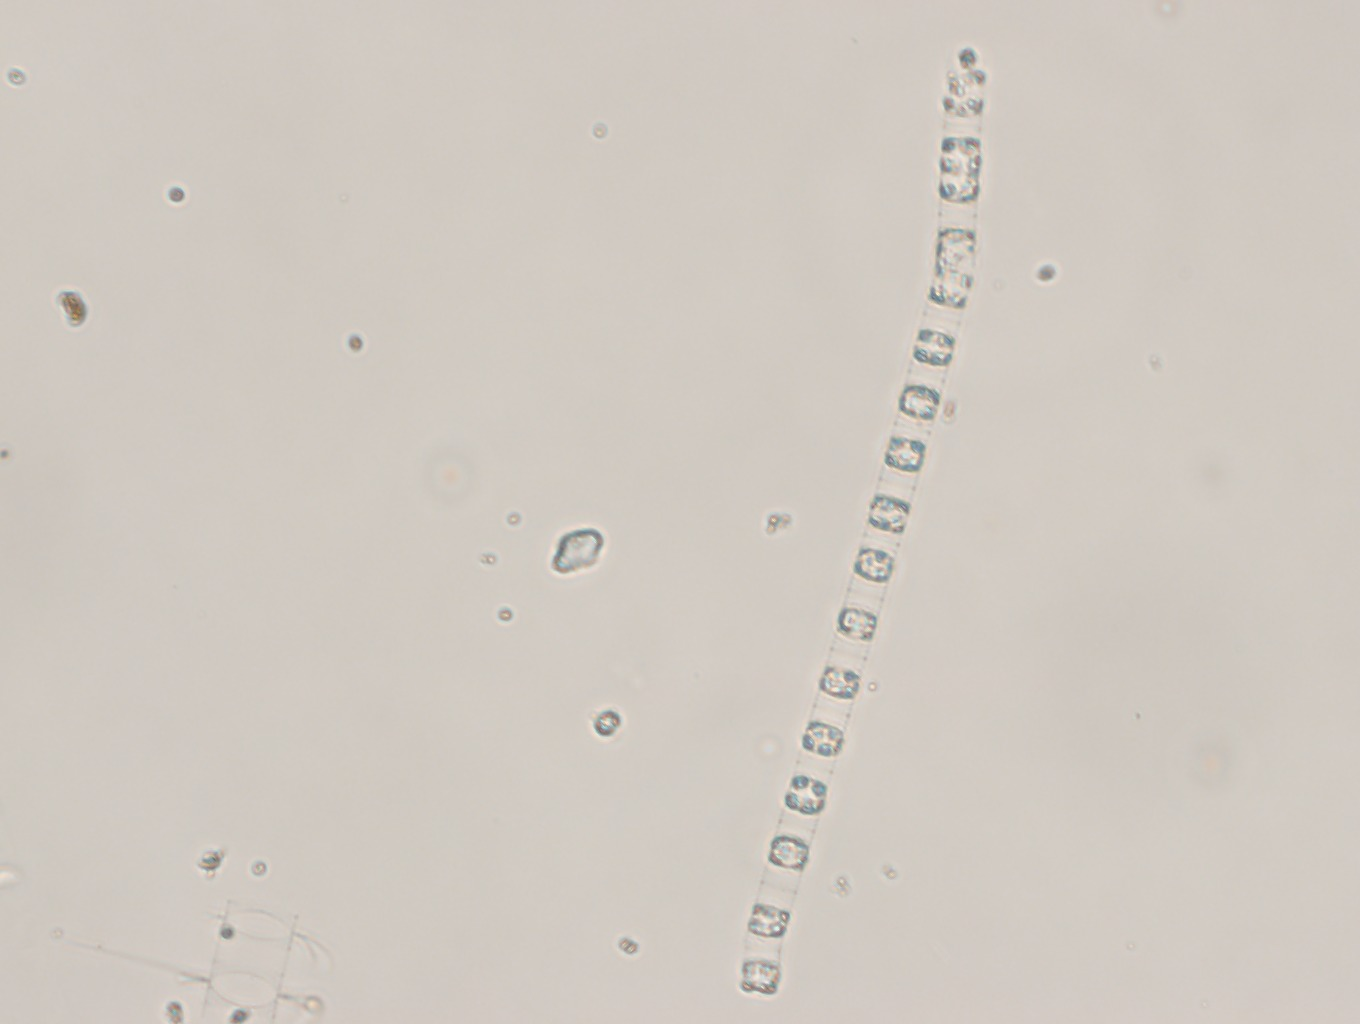skeletonema: (731, 284, 976, 1002), (906, 49, 1010, 290)
